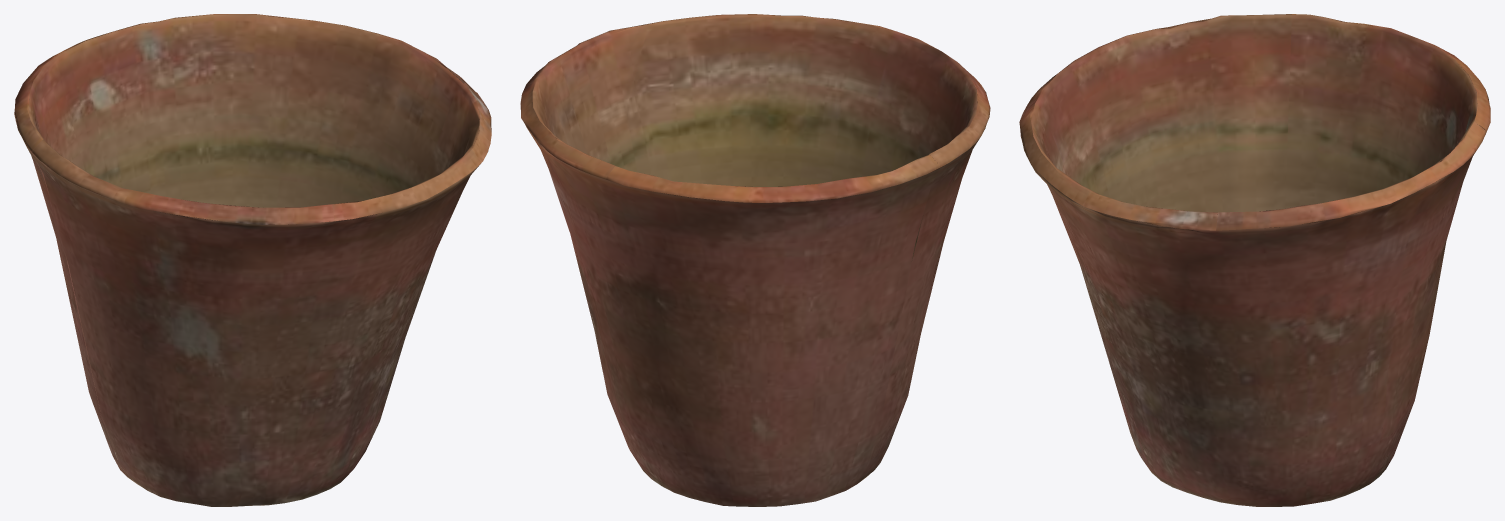
The model's file is clay_planter.glb.
The picture shows the model from 3 angles, left to right: view 1: azimuth 30°, elevation 25°; view 2: azimuth 150°, elevation 25°; view 3: azimuth 270°, elevation 25°; orthographic projection.
Parts seen in each view (by area): view 1: planter_pot_clay; view 2: planter_pot_clay; view 3: planter_pot_clay.
Boxes of the visible parts, x1,y1,x2,y2 form: planter_pot_clay: (14, 14, 491, 506); planter_pot_clay: (520, 14, 990, 506); planter_pot_clay: (1019, 14, 1490, 506).
Size of the model in its own units: 0.2663 by 0.2219 by 0.2639.
1 material, 1 textured.
